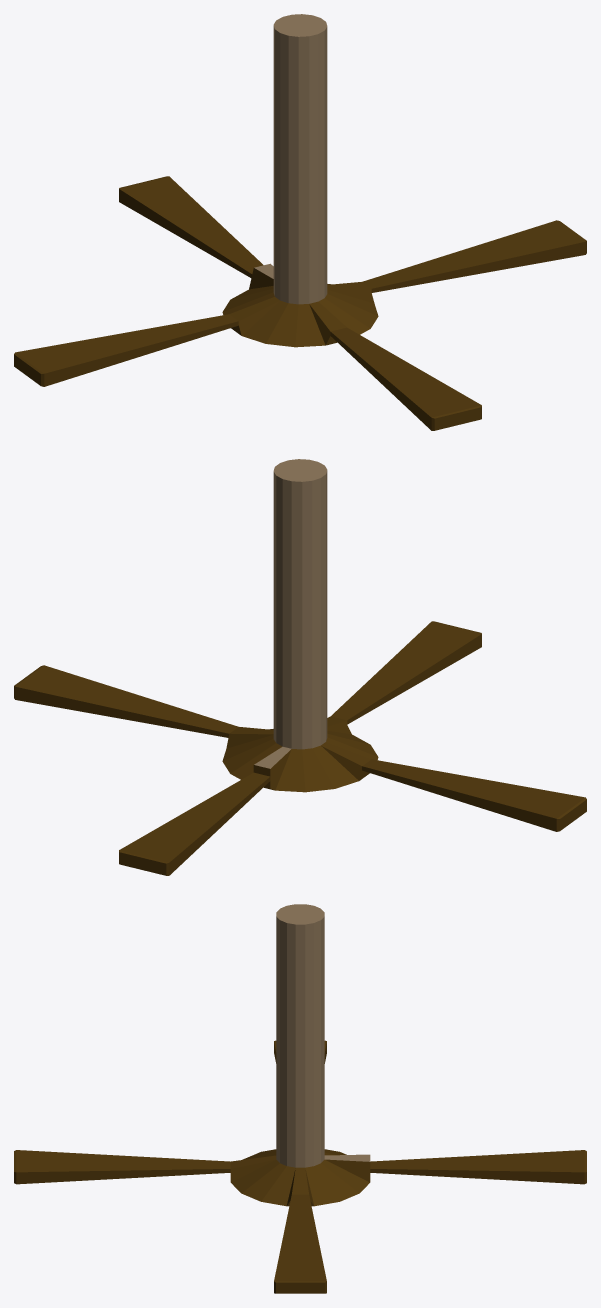
Rendered from tavandaki pervane.fbx.
3 renders of one model, top to bottom at view 1: azimuth 30°, elevation 25°; view 2: azimuth 150°, elevation 25°; view 3: azimuth 270°, elevation 25°, orthographic. The views are drawn at different scales.
Parts seen in each view (by area): view 1: Cylinder; view 2: Cylinder; view 3: Cylinder.
Part boxes in pixels (x1,y1,x2,y2): Cylinder: [14, 14, 586, 430]; Cylinder: [14, 459, 586, 875]; Cylinder: [14, 904, 586, 1293].
Size of the model in its own units: 823 by 416 by 823.
